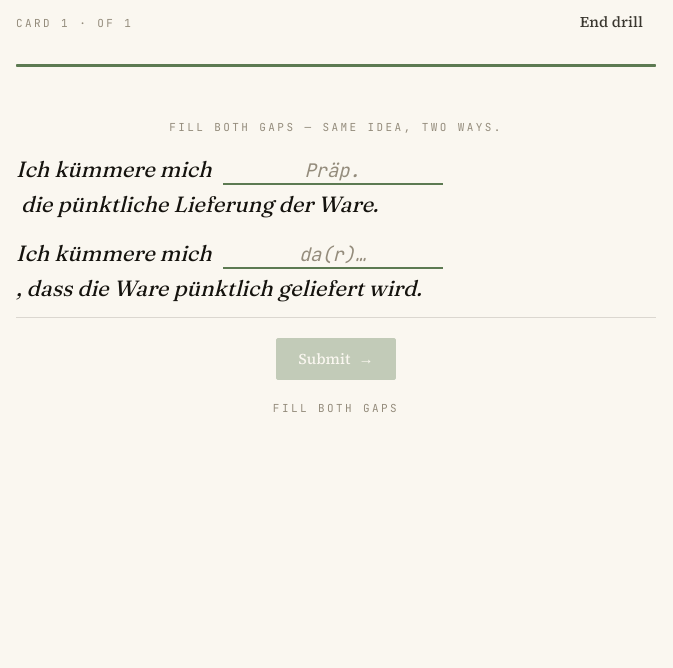
Test case: ParaphraseRunner — smoke tests › reveals feedback after submitting
Type "xyz-wrong" into the field with placeholder "Präp." at x=332, y=171, box top-left (222, 158), bottom-right (442, 185)
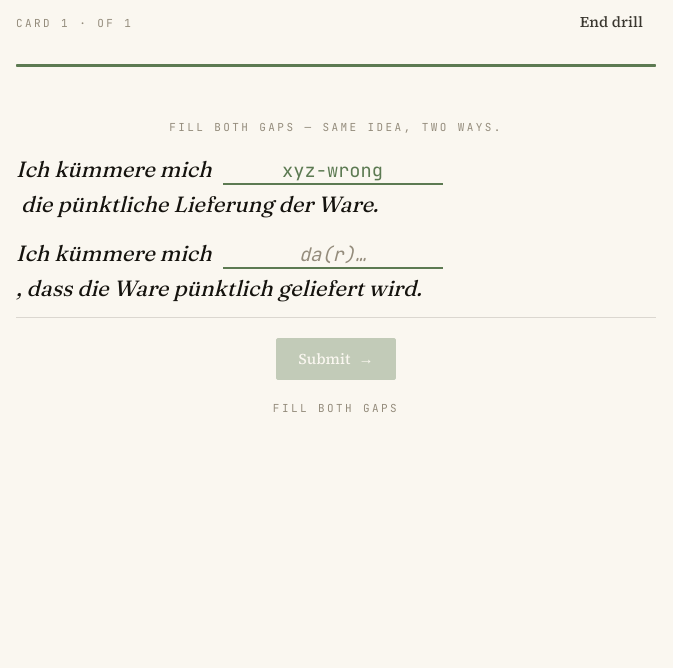
Type "xyz-wrong-too" into the field with placeholder "da(r)…" at x=332, y=255, box top-left (222, 242), bottom-right (442, 269)
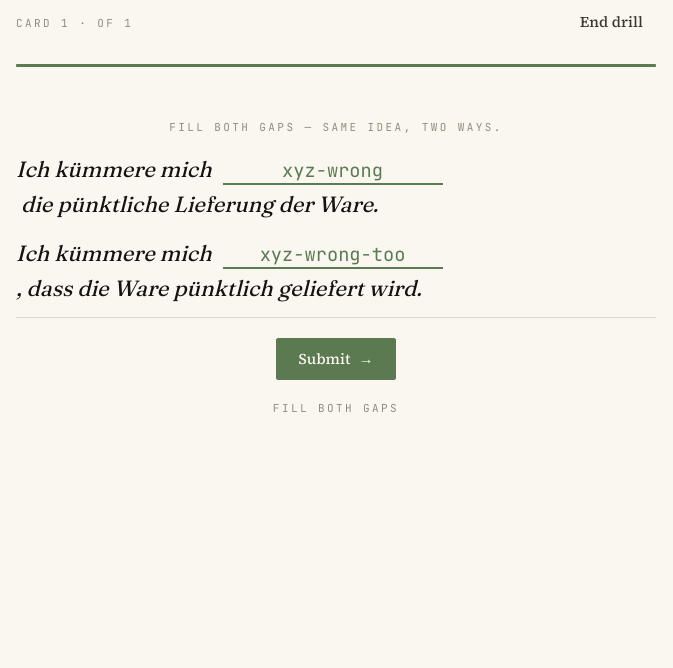
Click the button "Submit →" at x=336, y=359, box top-left (276, 338), bottom-right (396, 380)
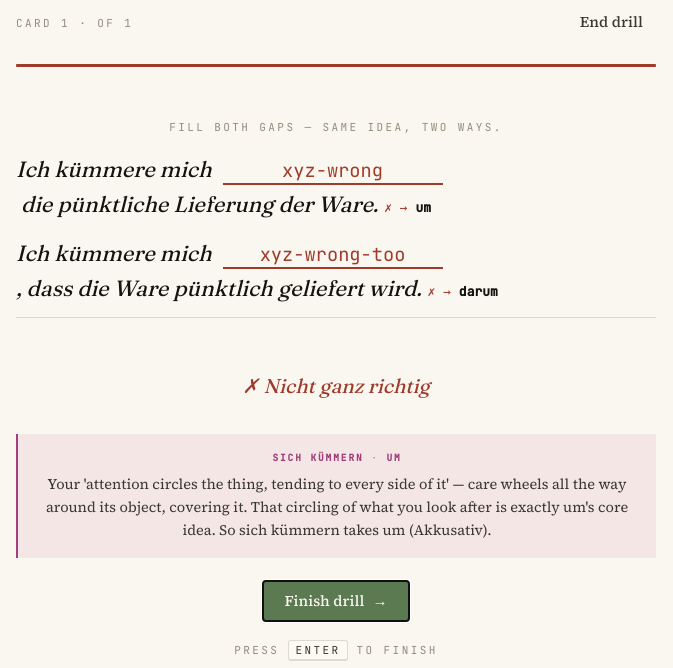
Result: the element with class "drill-feedback" is shown at top-left (16, 342), bottom-right (656, 622)
